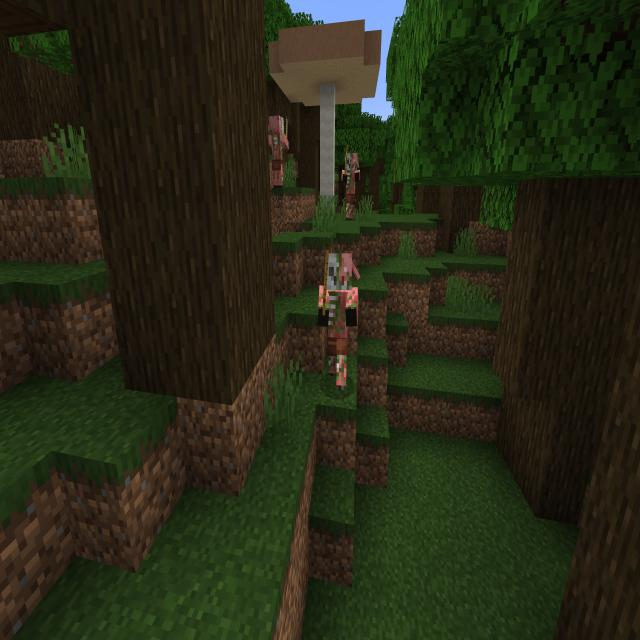Zombified Piglin: (316, 244, 361, 398), (265, 112, 291, 192), (341, 142, 362, 223)
